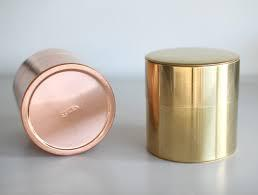Tin: (4, 15, 258, 170)
